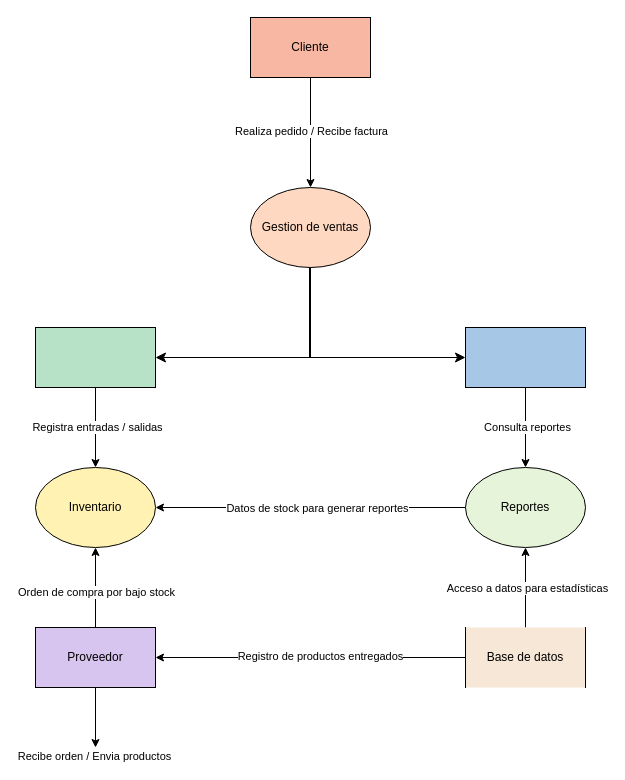
This 625x780 diagram has some shape labels left out. The shapes that lost their labels are listed below. From the top down, each one's centre as x and y in pixels, then its label:
point (95, 357): Empleado
point (525, 357): Administrador
